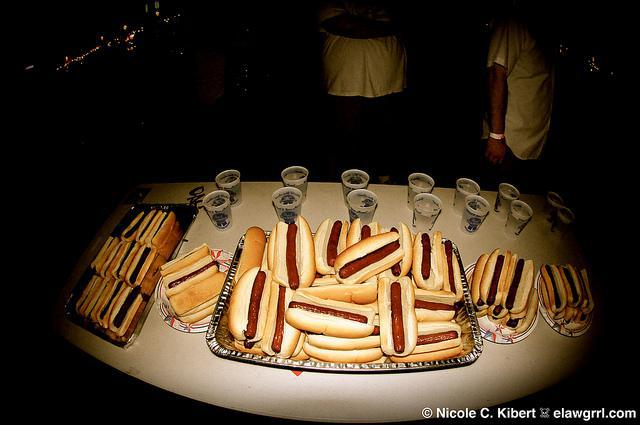hand: (482, 131, 506, 164)
